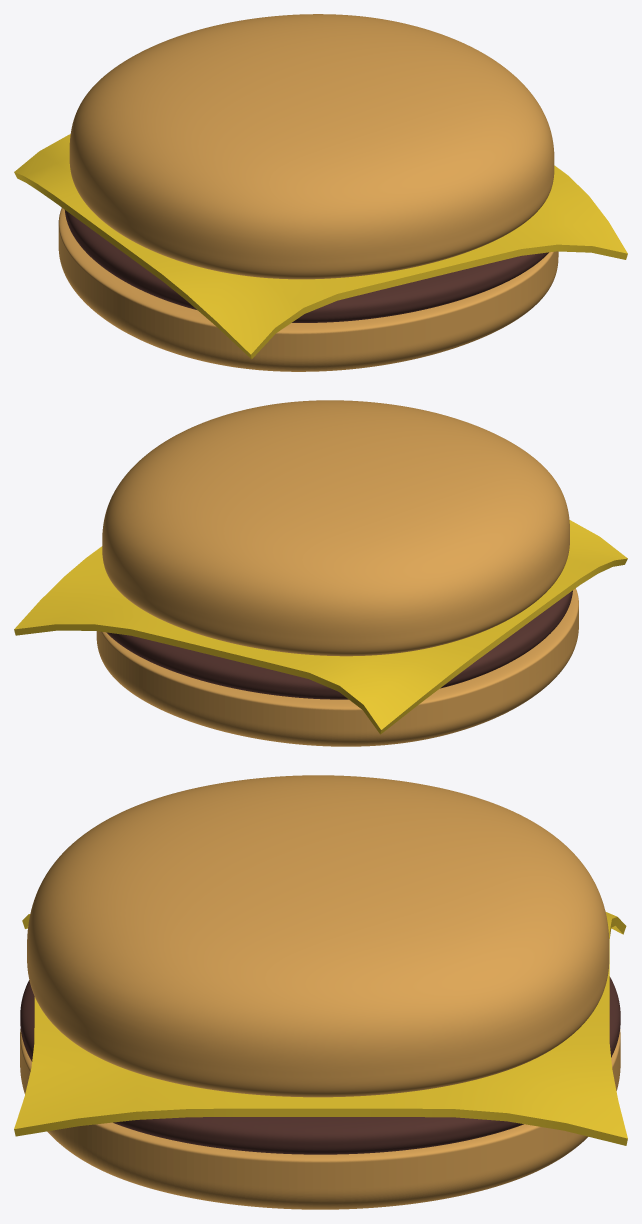
The model's file is hamburger.glb.
3 views of the same model, one above another, from view 1: azimuth 30°, elevation 25°; view 2: azimuth 150°, elevation 25°; view 3: azimuth 270°, elevation 25° (orthographic). The views are drawn at different scales.
Visible parts, largest first — view 1: Cube.002, Cube, Plane, Cube.001; view 2: Cube.002, Plane, Cube, Cube.001; view 3: Cube.002, Plane, Cube, Cube.001.
Boxes of the visible parts, x1=… form: Cube.002: x1=69, y1=14, x2=554, y2=279; Cube: x1=58, y1=208, x2=558, y2=371; Plane: x1=14, y1=134, x2=627, y2=359; Cube.001: x1=65, y1=210, x2=548, y2=322; Cube.002: x1=102, y1=400, x2=569, y2=656; Plane: x1=14, y1=520, x2=627, y2=734; Cube: x1=96, y1=588, x2=578, y2=746; Cube.001: x1=106, y1=590, x2=572, y2=699; Cube.002: x1=27, y1=775, x2=609, y2=1097; Plane: x1=14, y1=912, x2=627, y2=1145; Cube: x1=20, y1=1029, x2=620, y2=1209; Cube.001: x1=20, y1=976, x2=620, y2=1154.
Size of the model in its own units: 9.3 by 4.56 by 9.37.
